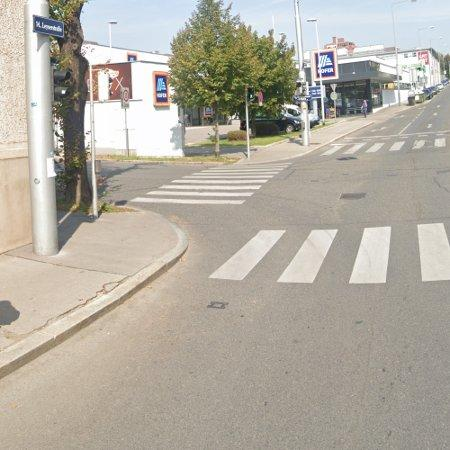crosswalks: (114, 161, 294, 205)
